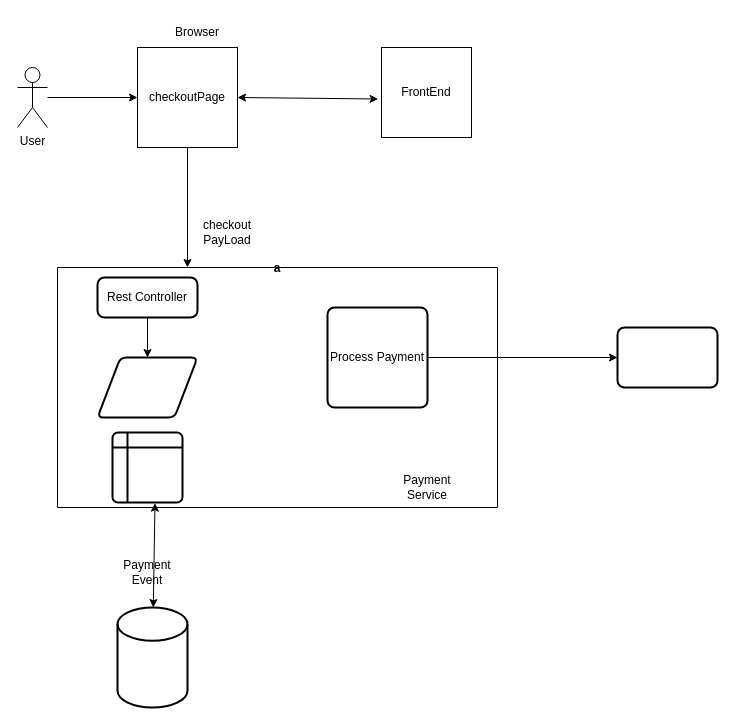
The diagram is 736 pixels wide and 725 high, and some of its shapes have lost their labels. Here are the shapes that lost their labels. From the top down, the centre of each, then its label:
the point at 667,357: PSP
the point at 147,387: Data
the point at 147,467: queues
